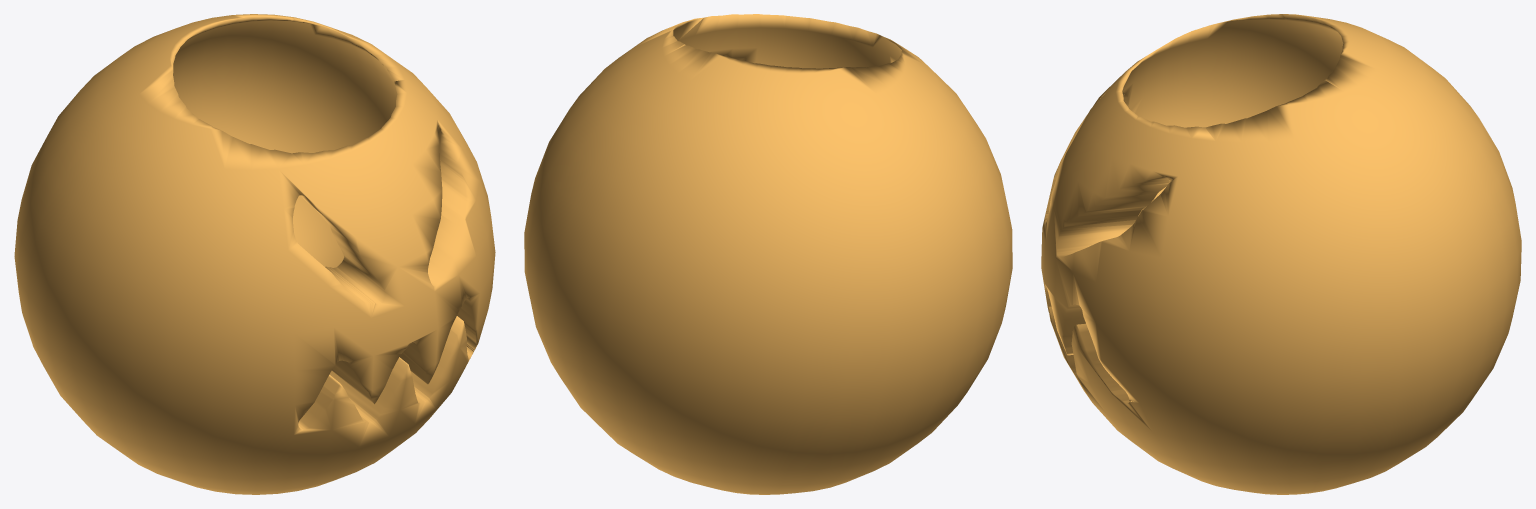
3 renders of one model, left to right at view 1: azimuth 30°, elevation 25°; view 2: azimuth 150°, elevation 25°; view 3: azimuth 270°, elevation 25°, orthographic.
Visible parts, largest first — view 1: obj_0.010_obj_0.011; view 2: obj_0.010_obj_0.011; view 3: obj_0.010_obj_0.011.
Boxes of the visible parts, x1,y1,x2,y2 form: obj_0.010_obj_0.011: (14, 14, 495, 494); obj_0.010_obj_0.011: (524, 14, 1012, 494); obj_0.010_obj_0.011: (1041, 14, 1521, 494).
Size of the model in its own units: 0.0396 by 0.0389 by 0.0396.
